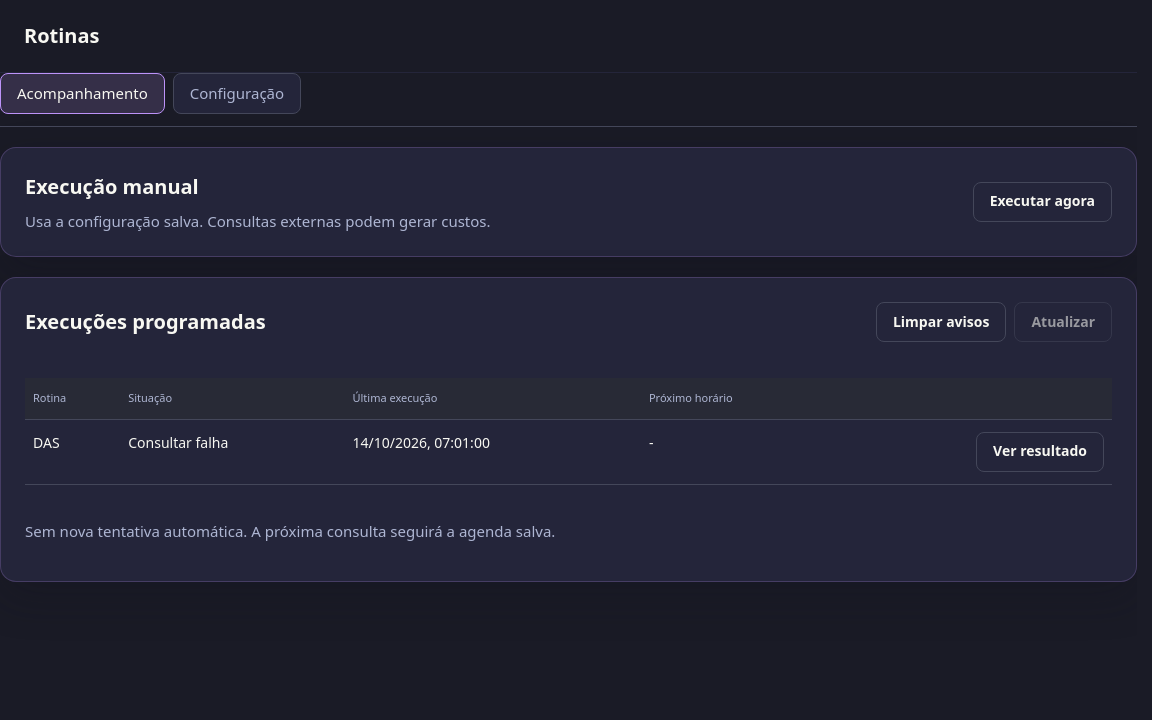
Test: recusa mantém confirmação aberta e não anuncia sucesso
Click the button "Executar agora".
click(1042, 202)  # box [973,182,1112,222]
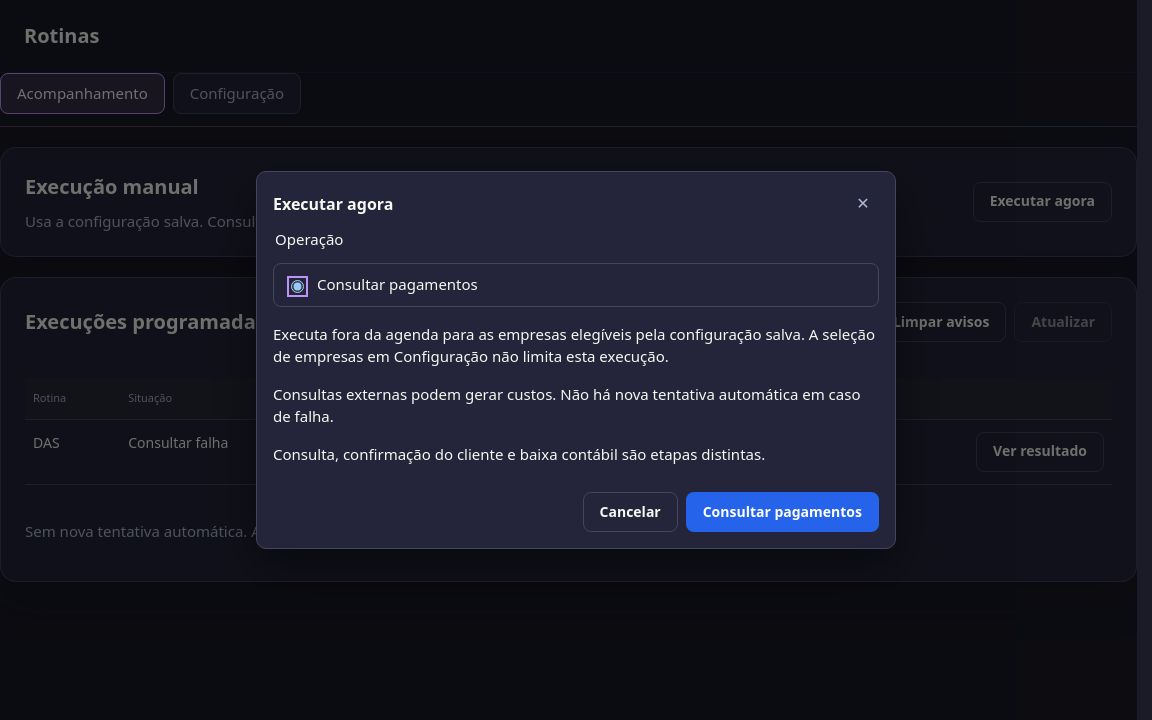
Click the button "Consultar pagamentos".
click(782, 512)  # box [686,492,879,532]
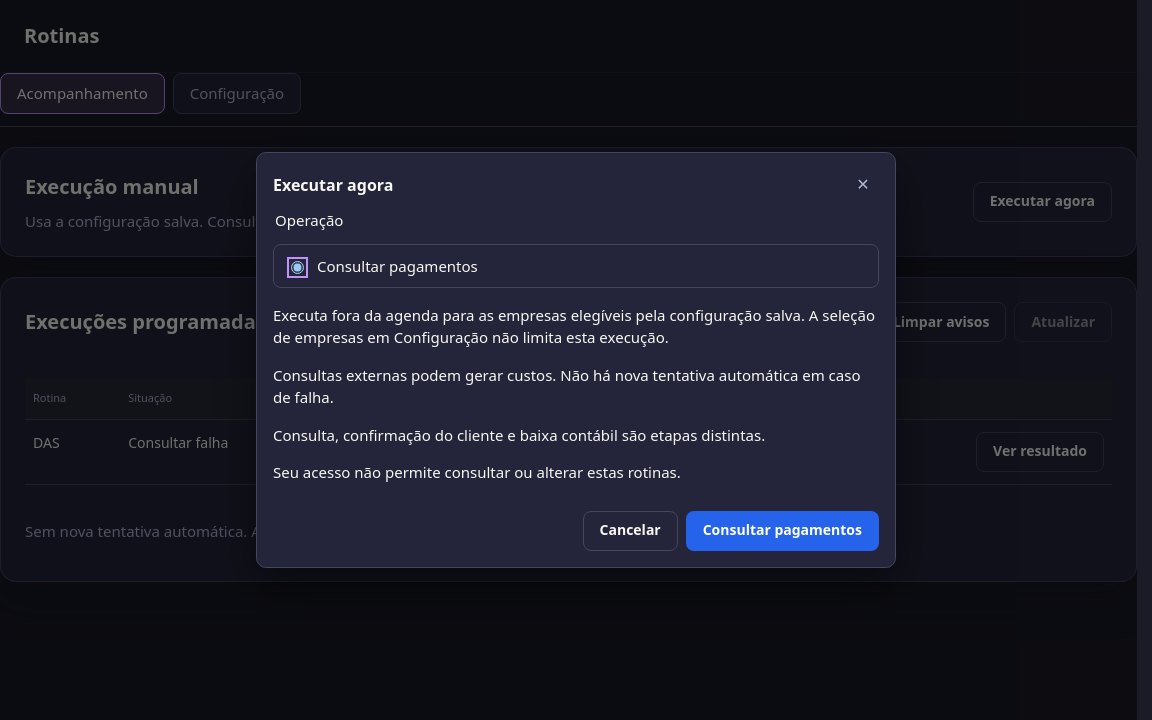
Result: the dialog "Executar agora" is shown
Result: the message shows "Seu acesso" at [273,462,681,482]
